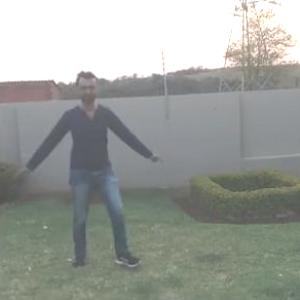land: (36, 79, 140, 231)
